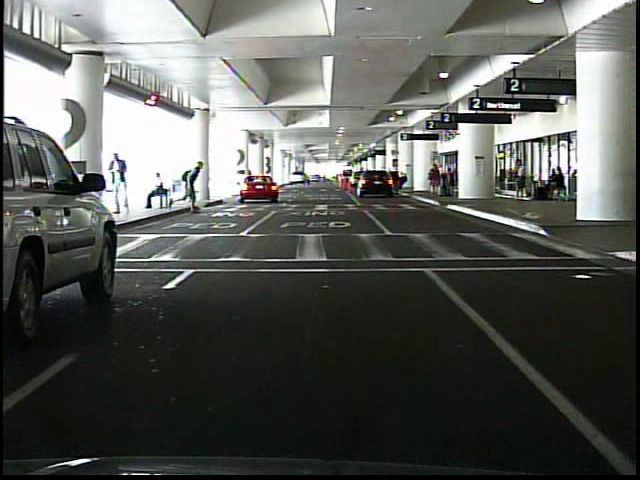person: (176, 159, 210, 212), (112, 153, 131, 215), (144, 171, 167, 210), (426, 163, 443, 198), (516, 157, 529, 199), (450, 165, 451, 196)
